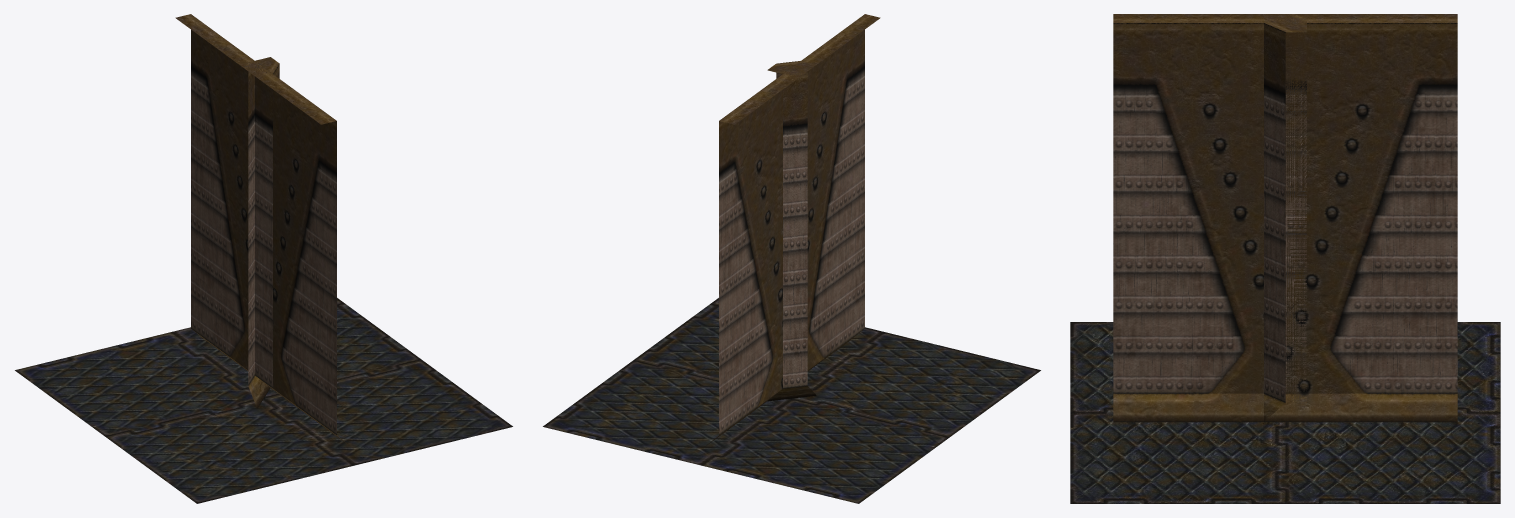
File: qtile-tech-4.obj
3 views of the same model, side by side, from view 1: azimuth 30°, elevation 25°; view 2: azimuth 150°, elevation 25°; view 3: azimuth 270°, elevation 25° (orthographic). The views are drawn at different scales.
Visible parts, largest first — view 1: floor_Plane, wall_Plane.009, filler_Plane.005, corner-outer_Plane.011; view 2: floor_Plane, wall_Plane.009, corner-outer_Plane.011; view 3: wall_Plane.009, floor_Plane, corner-inner_Plane.010, filler_Plane.005.
Part boxes in pixels (x1,y1,x2,y2): floor_Plane: (15, 298, 512, 503); wall_Plane.009: (175, 14, 349, 445); filler_Plane.005: (239, 63, 286, 399); corner-outer_Plane.011: (240, 62, 270, 408); floor_Plane: (543, 298, 1040, 503); wall_Plane.009: (706, 14, 880, 445); corner-outer_Plane.011: (767, 71, 816, 401); wall_Plane.009: (1113, 14, 1457, 422); floor_Plane: (1070, 322, 1500, 503); corner-inner_Plane.010: (1264, 14, 1306, 421); filler_Plane.005: (1265, 14, 1306, 421).
Bounding box in the file's own units: 1 × 1 × 1.
2 materials, 2 textured.
